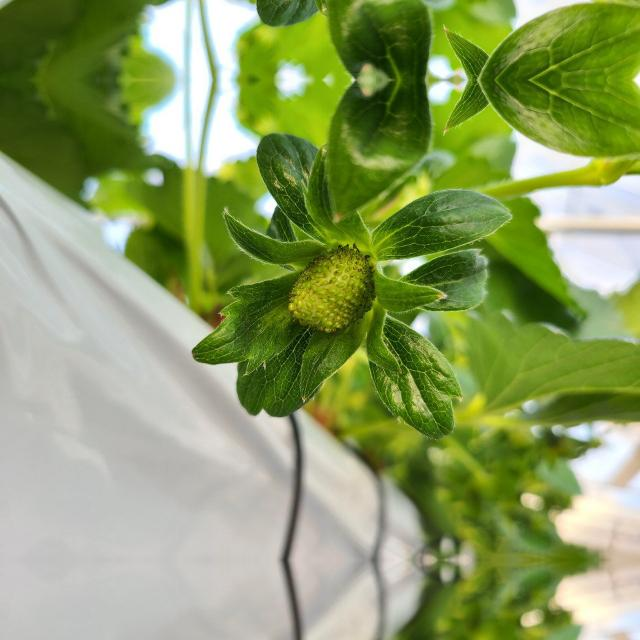Health_25: (288, 245, 374, 332)
